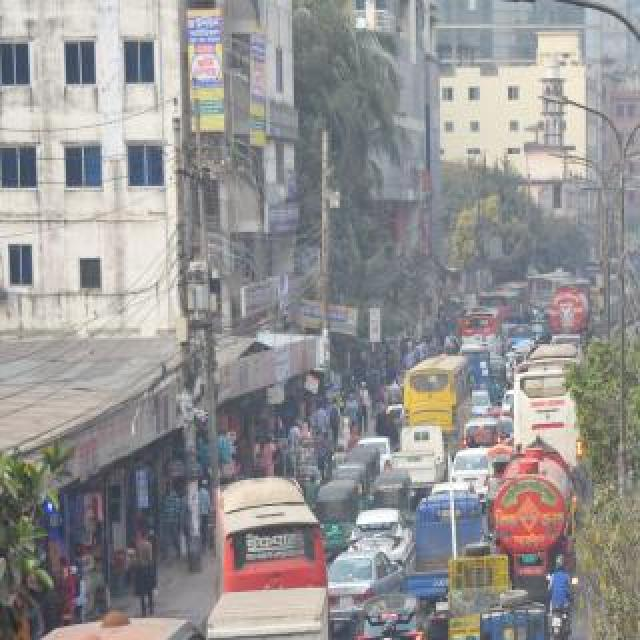bus: (218, 469, 324, 601), (515, 342, 587, 464), (0, 610, 230, 640), (404, 352, 474, 444), (461, 305, 503, 357), (477, 286, 521, 318), (535, 274, 571, 306), (499, 278, 529, 312)
car: (328, 548, 402, 640), (350, 499, 408, 581), (352, 584, 432, 640), (452, 444, 494, 504), (364, 436, 394, 470), (503, 387, 517, 431), (530, 319, 552, 345)
motorbike: (546, 552, 582, 640)
truck: (492, 436, 576, 590), (548, 279, 592, 337)
van: (406, 482, 486, 620), (206, 586, 336, 640), (448, 540, 512, 640), (470, 586, 556, 640), (392, 419, 450, 489), (462, 413, 506, 457), (463, 346, 493, 396), (507, 324, 535, 346)
